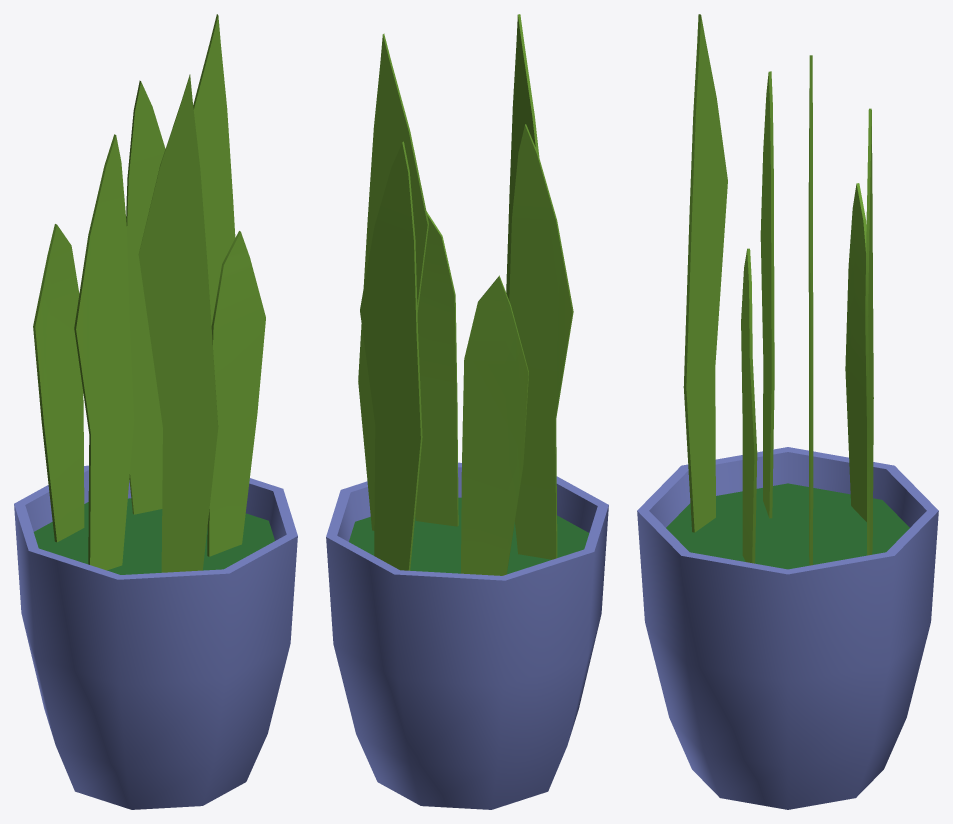
File: plant.FBX
3 views of the same model, side by side, from view 1: azimuth 30°, elevation 25°; view 2: azimuth 150°, elevation 25°; view 3: azimuth 270°, elevation 25° (orthographic). The views are drawn at different scales.
Parts seen in each view (by area): view 1: Houseplant_005; view 2: Houseplant_005; view 3: Houseplant_005.
Part boxes in pixels (x1,y1,x2,y2): Houseplant_005: (14, 14, 297, 809); Houseplant_005: (326, 14, 608, 809); Houseplant_005: (637, 14, 938, 809).
Bounding box in the file's own units: 33.83 × 92.84 × 33.83.
1 material, 1 textured.
